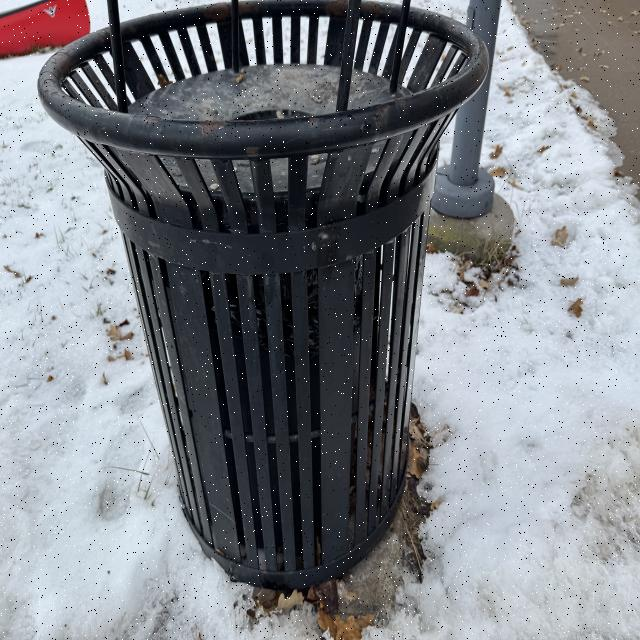Dustbin: (38, 0, 492, 592)
